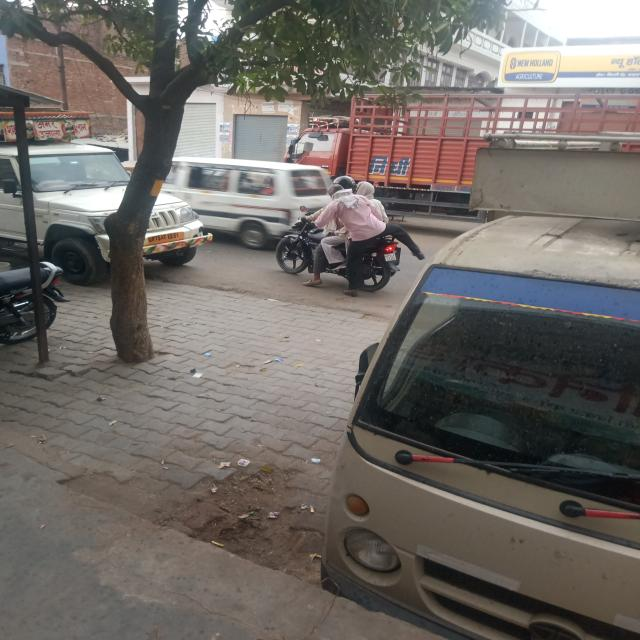Truck: (283, 94, 640, 204)
Two Wheeler: (0, 268, 37, 344), (275, 218, 323, 274), (362, 236, 400, 291), (40, 262, 68, 328), (327, 265, 345, 278)
